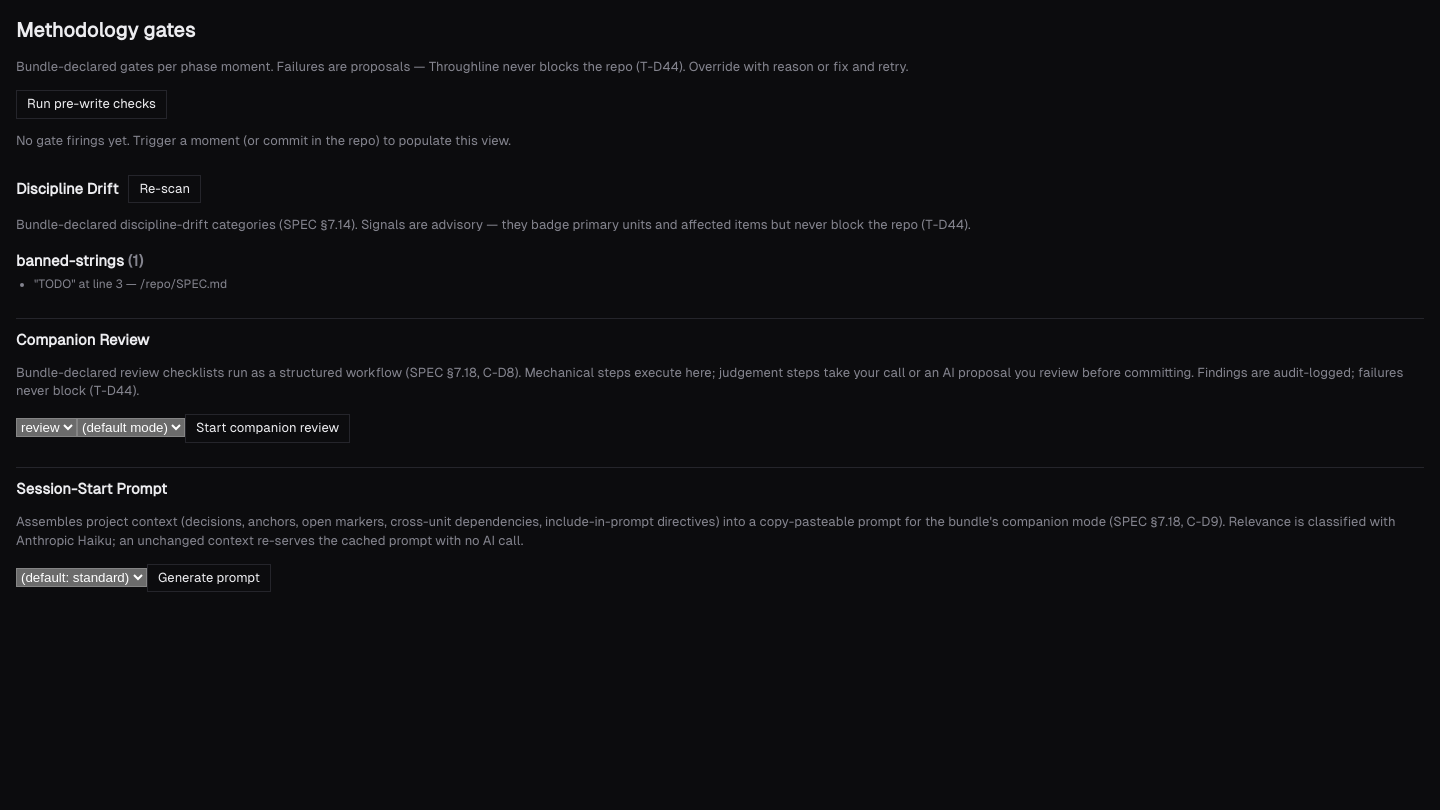
Test: Phase 8 — methodology-gates view › Phase 9 — renders category-grouped discipline drift and re-scans (C-D7)
expect the element with test id "drift-category-banned-strings" is shown: met, box [16,252,227,291]
expect the list item with test id "drift-signal-d1" shows "\"TODO\" at line 3": met, box [34,278,227,292]
Click the button with test id "discipline-drift-rescan". click: [165, 189]
box: [128,174,201,203]
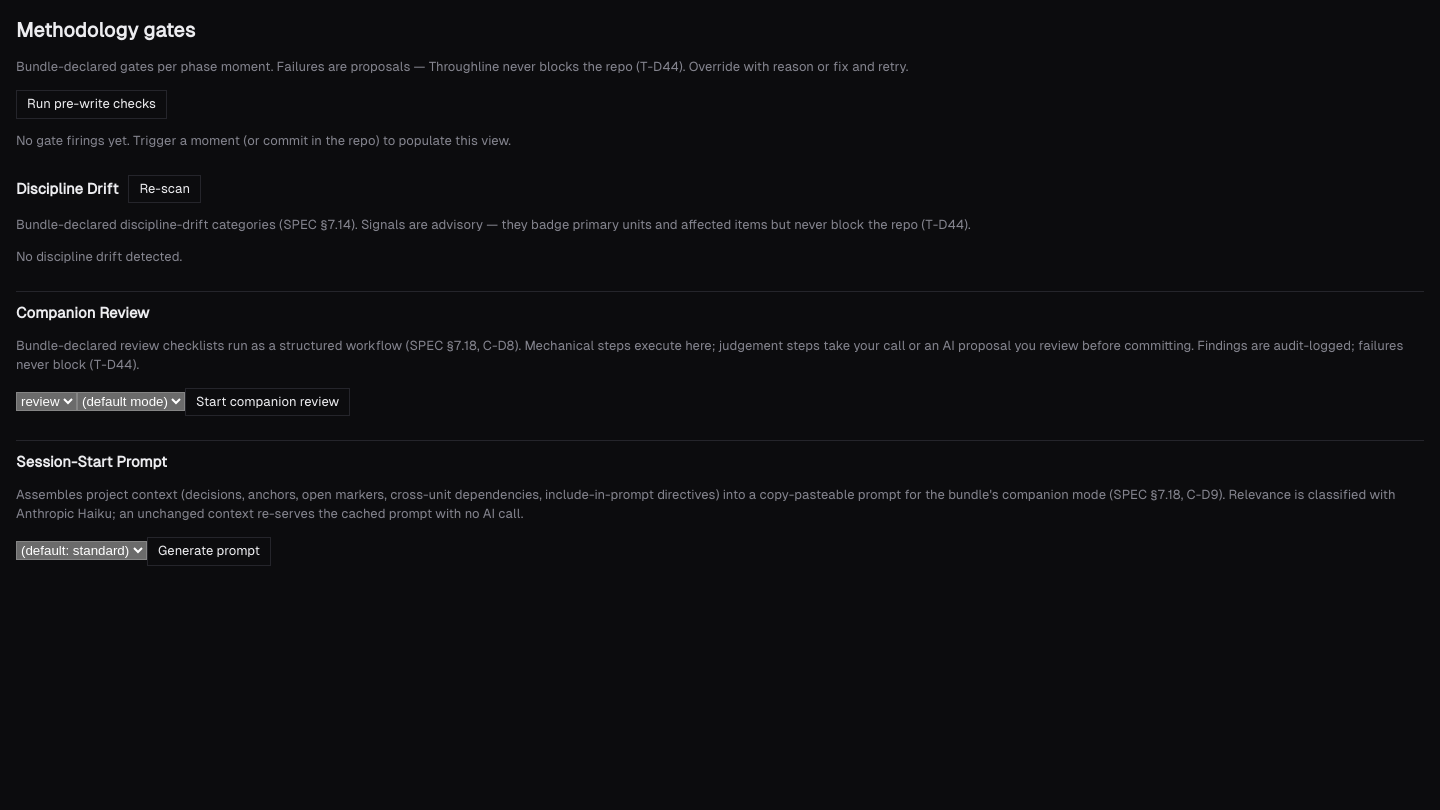
expect the text "No discipline drift detected." is shown: met, box [16,249,182,264]
